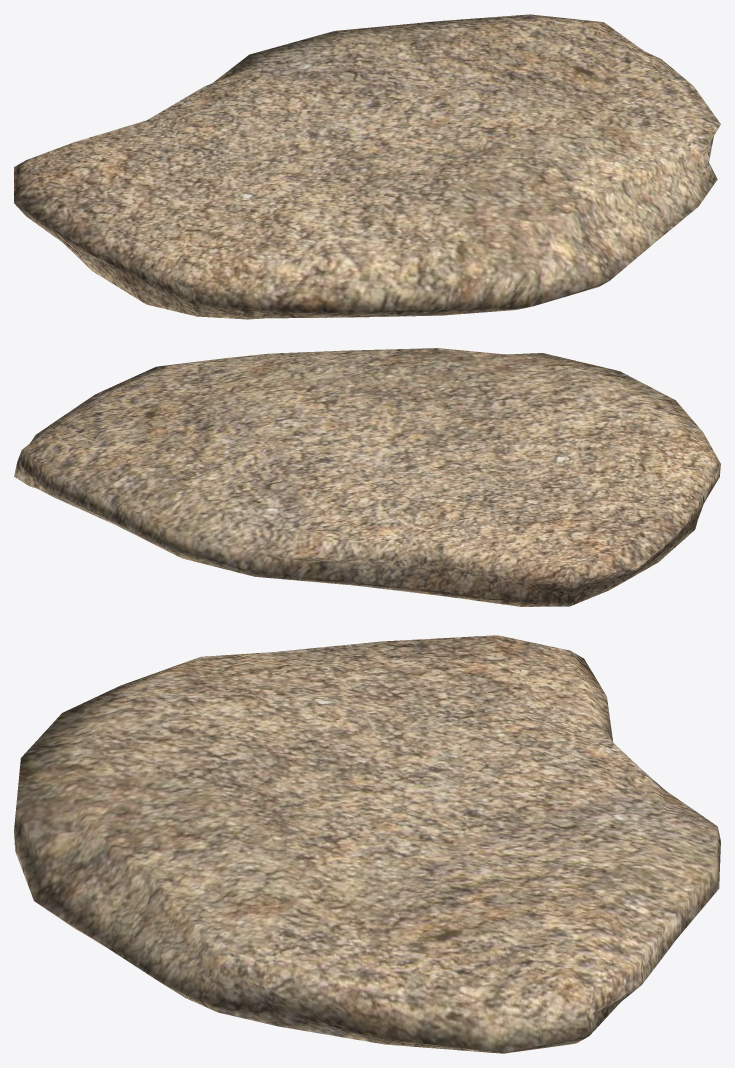
Rendered from Stone06_v01.glb.
The picture shows the model from 3 angles, top to bottom: view 1: azimuth 30°, elevation 25°; view 2: azimuth 150°, elevation 25°; view 3: azimuth 270°, elevation 25°; orthographic projection. The views are drawn at different scales.
Visible parts, largest first — view 1: SM_Stone06; view 2: SM_Stone06; view 3: SM_Stone06.
Boxes of the visible parts, box(x1,y1,x2,y2) form: SM_Stone06: box(14, 14, 720, 319); SM_Stone06: box(14, 348, 720, 606); SM_Stone06: box(14, 635, 720, 1053).
Bounding box in the file's own units: 1.17 × 0.1524 × 0.9305.
Materials: 1 (1 with a texture image).
